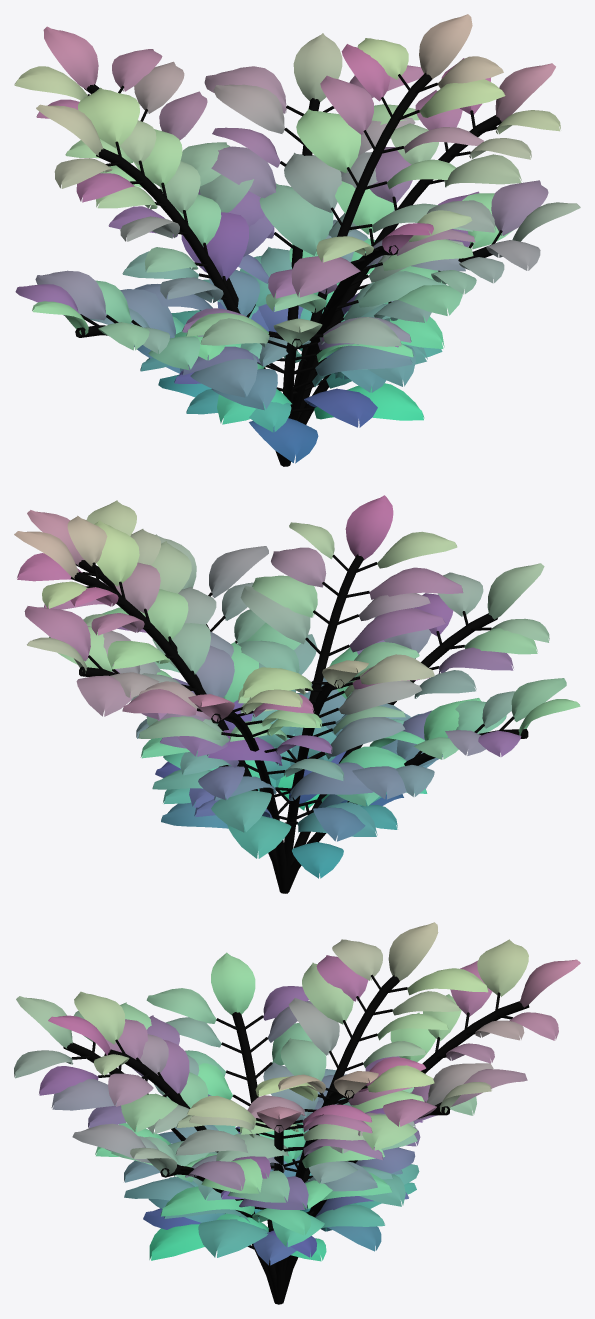
File: RoundedShrub_A.fbx
3 renders of one model, top to bottom at view 1: azimuth 30°, elevation 25°; view 2: azimuth 150°, elevation 25°; view 3: azimuth 270°, elevation 25°, orthographic. The views are drawn at different scales.
Parts seen in each view (by area): view 1: RoundedShrub_A; view 2: RoundedShrub_A; view 3: RoundedShrub_A.
Boxes of the visible parts, x1,y1,x2,y2 form: RoundedShrub_A: [14, 14, 580, 466]; RoundedShrub_A: [14, 495, 580, 893]; RoundedShrub_A: [14, 922, 580, 1304].
Size of the model in its own units: 1.5 by 0.9278 by 1.45.
